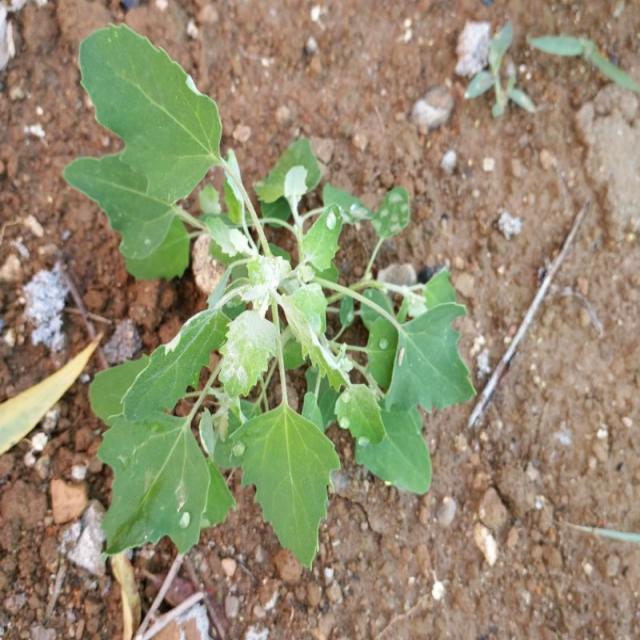ca: (66, 132, 476, 573)
